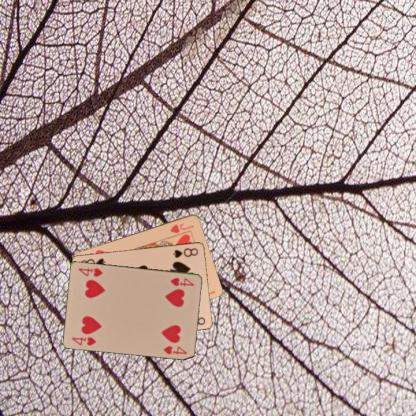4h: (69, 334, 98, 347), (168, 275, 195, 287)
8s: (170, 245, 199, 259)
Jh: (168, 221, 194, 234)
